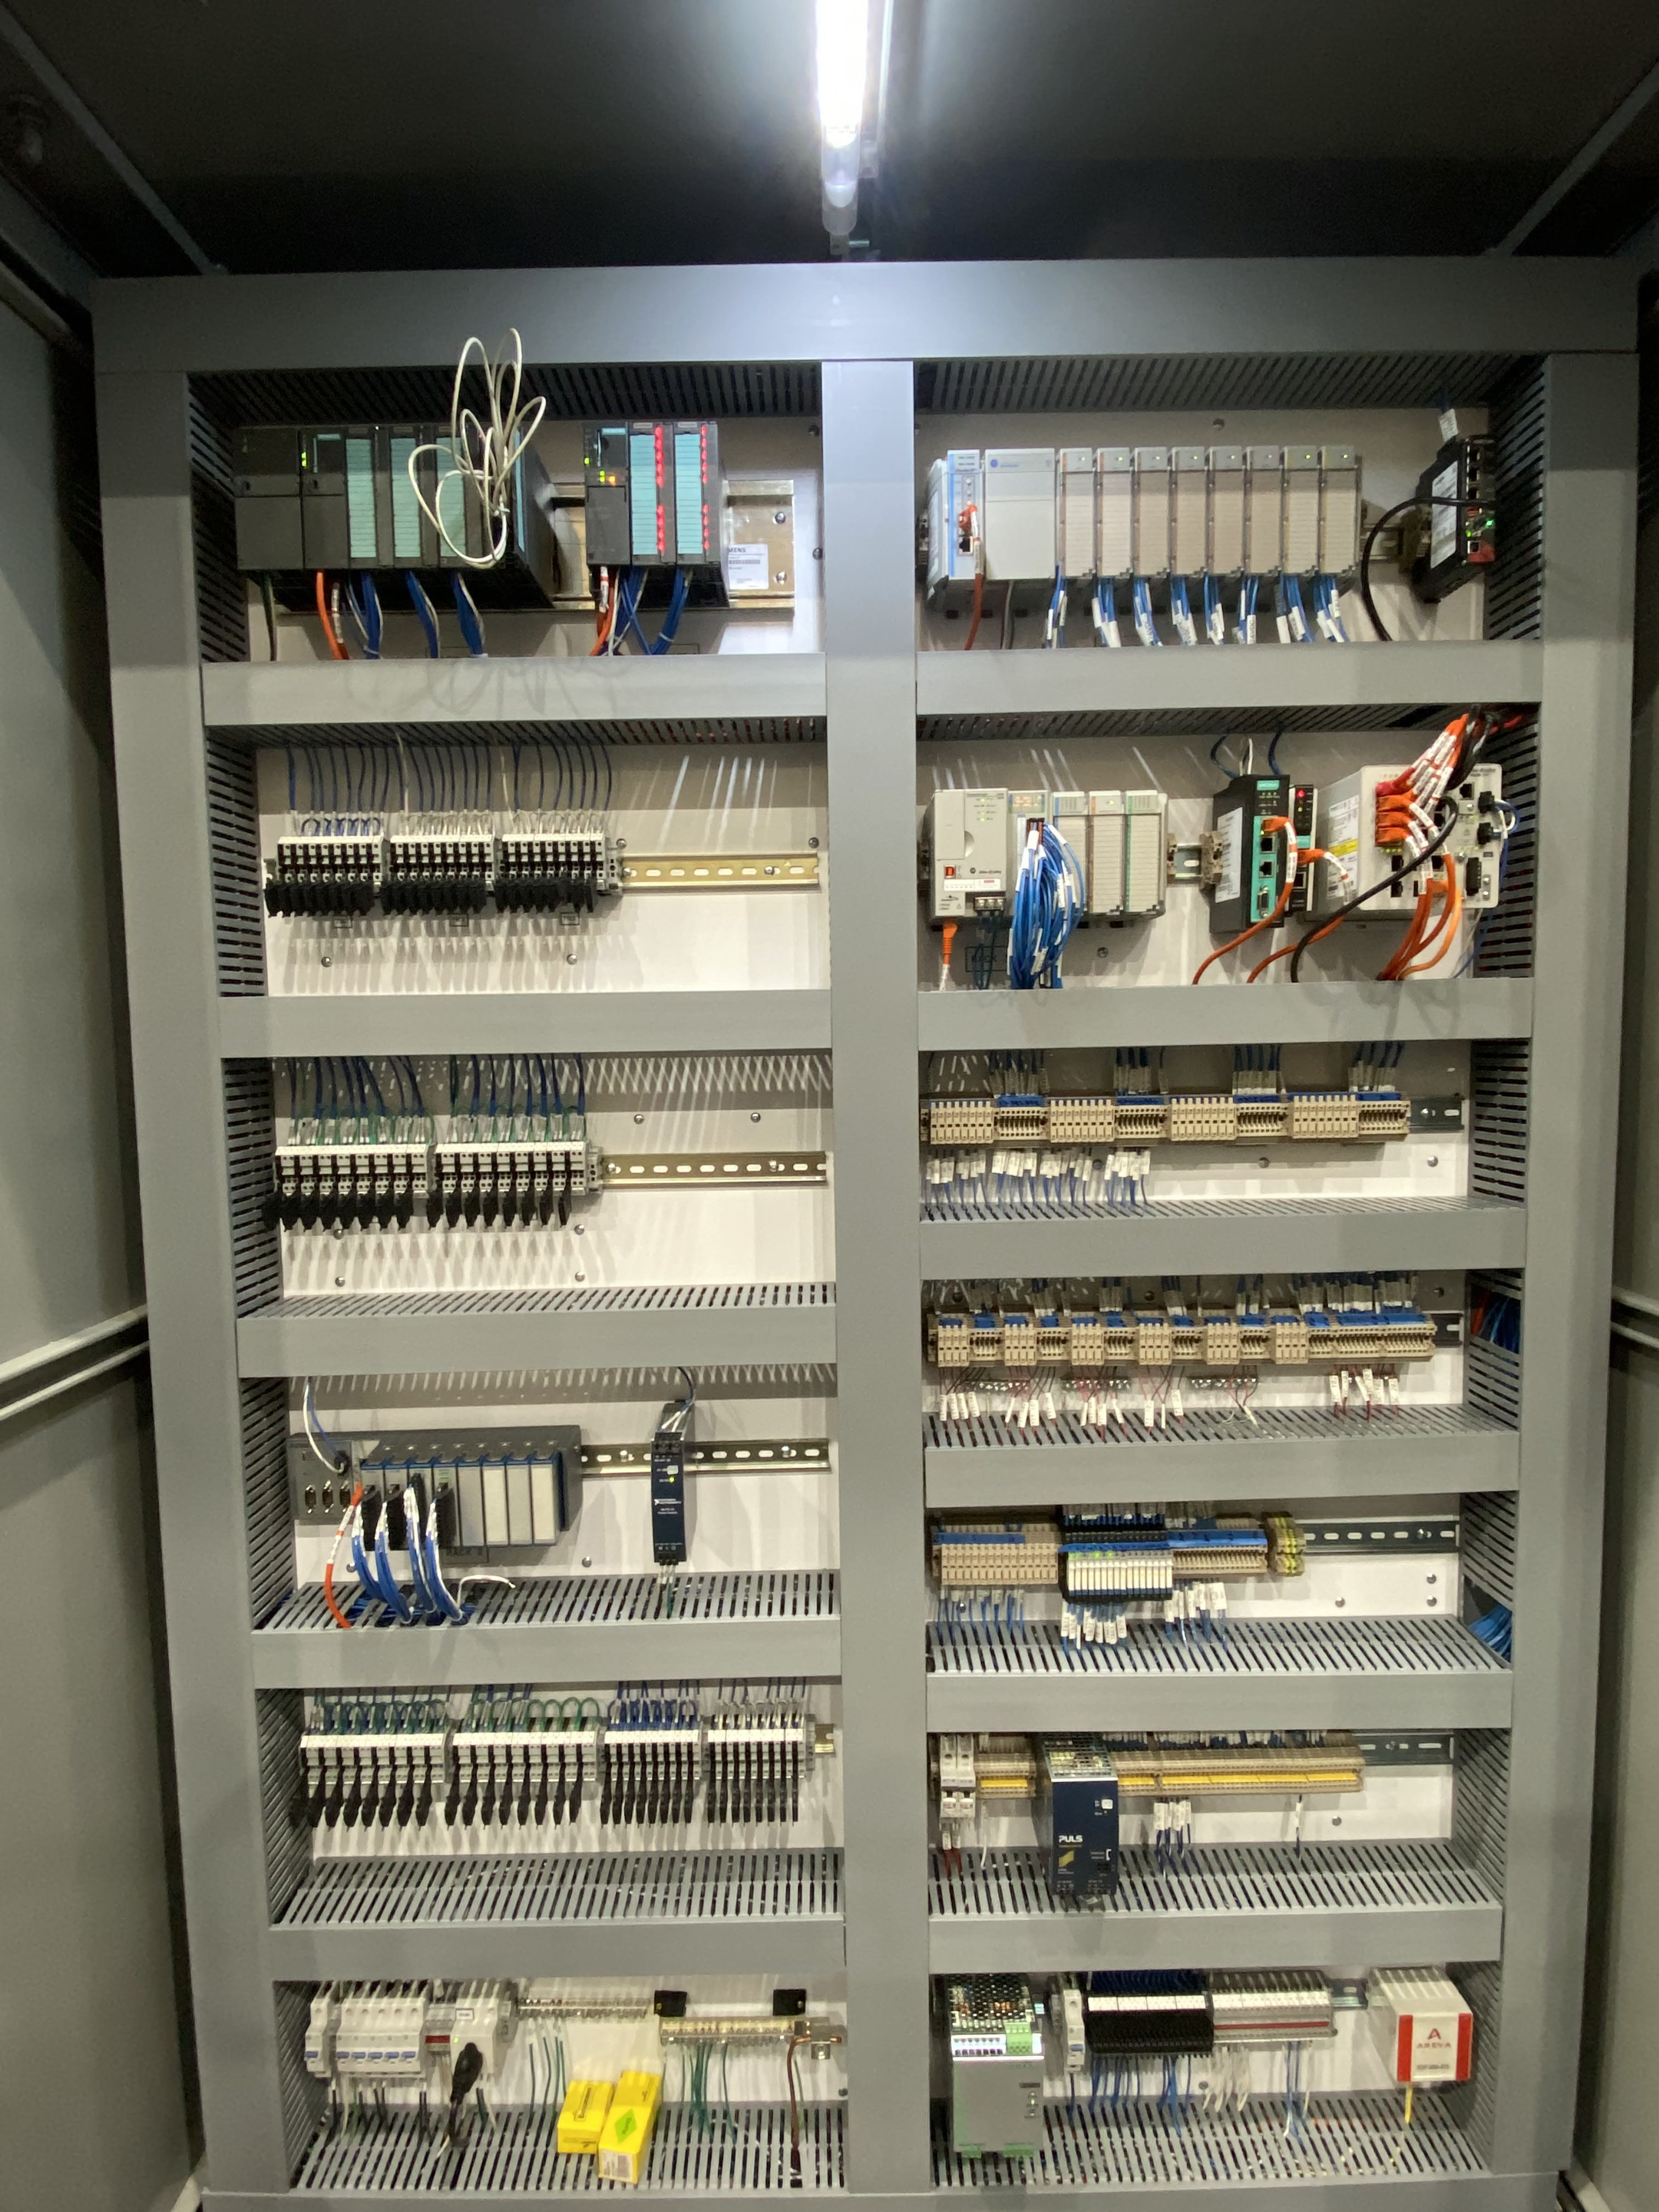AllenBradley: (931, 786, 1012, 923)
Siemens: (298, 420, 354, 575)
